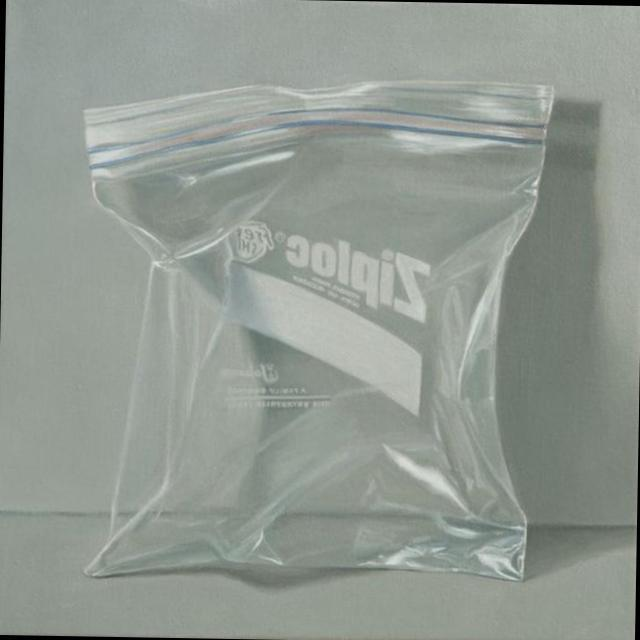Plastic_Bag: (72, 72, 552, 586)
